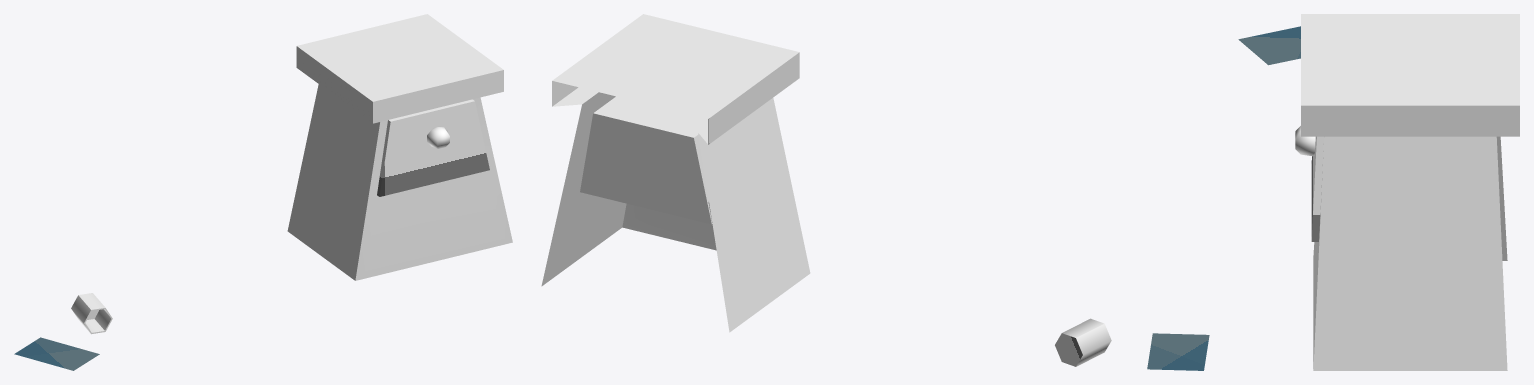
Rendered from Props2.obj.
The picture shows the model from 3 angles, left to right: view 1: azimuth 30°, elevation 25°; view 2: azimuth 150°, elevation 25°; view 3: azimuth 270°, elevation 25°; orthographic projection. The views are drawn at different scales.
Visible parts, largest first — view 1: polymsh1; view 2: polymsh1; view 3: polymsh1.
Boxes of the visible parts, box(x1,y1,x2,y2) form: polymsh1: box(14, 14, 512, 370); polymsh1: box(541, 14, 1209, 370); polymsh1: box(1238, 14, 1519, 370).
Size of the model in its own units: 5.21 by 1.81 by 1.8.
